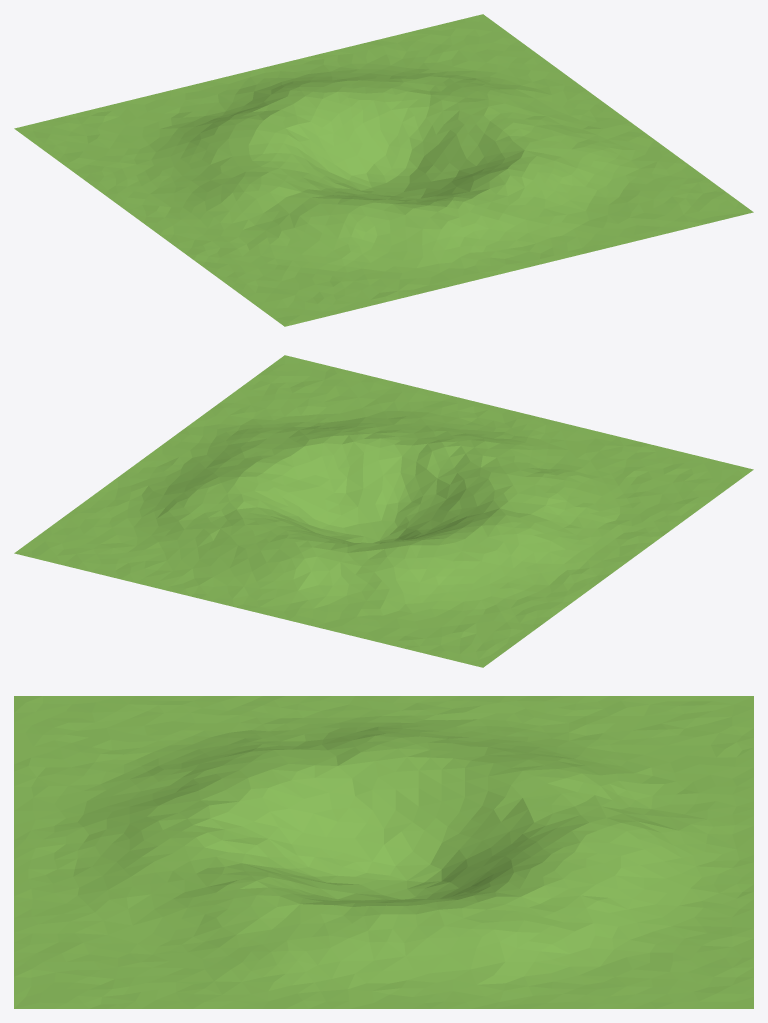
Rendered from MT_Terrain_L_b_14.fbx.
3 renders of one model, top to bottom at view 1: azimuth 30°, elevation 25°; view 2: azimuth 150°, elevation 25°; view 3: azimuth 270°, elevation 25°, orthographic. The views are drawn at different scales.
Parts seen in each view (by area): view 1: MT_Terrain_L_b_14; view 2: MT_Terrain_L_b_14; view 3: MT_Terrain_L_b_14.
Part boxes in pixels (x1,y1,x2,y2): MT_Terrain_L_b_14: (14,14,753,326); MT_Terrain_L_b_14: (14,355,753,667); MT_Terrain_L_b_14: (14,696,753,1008).
Size of the model in its own units: 10000 by 910 by 10000.
